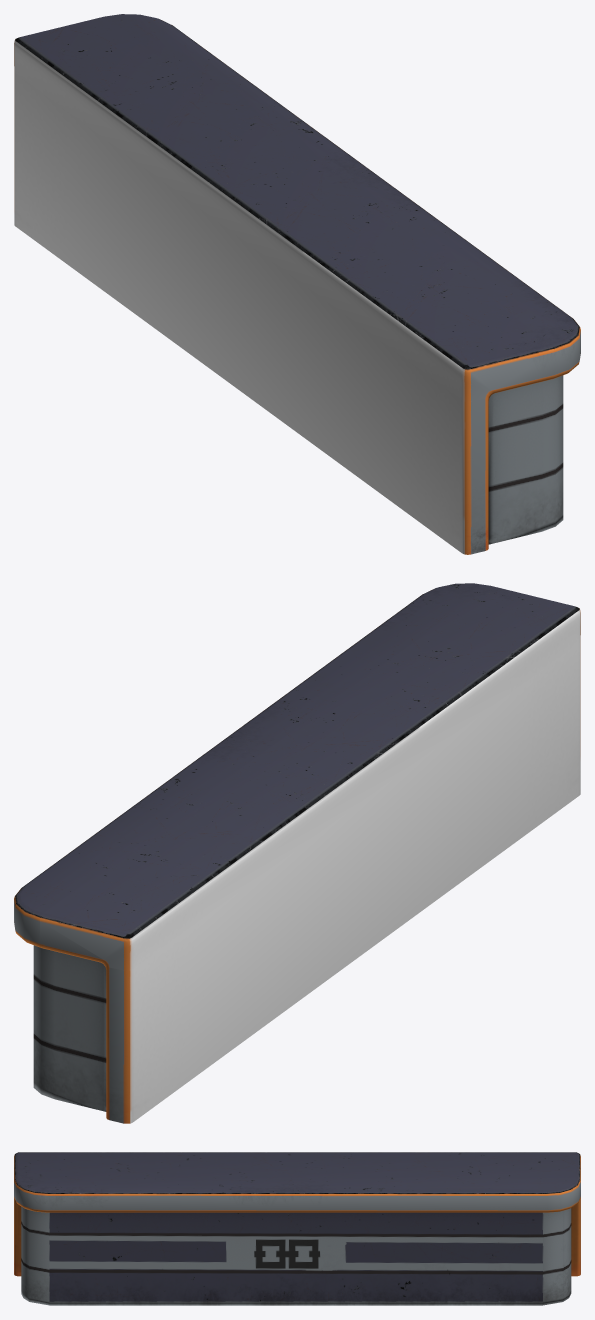
File: SideTable.fbx
3 views of the same model, one above another, from view 1: azimuth 30°, elevation 25°; view 2: azimuth 150°, elevation 25°; view 3: azimuth 270°, elevation 25° (orthographic). The views are drawn at different scales.
Parts seen in each view (by area): view 1: SideTable; view 2: SideTable; view 3: SideTable.
Part boxes in pixels (box(x1,y1,x2,y2)): SideTable: box(14, 14, 580, 554); SideTable: box(14, 583, 580, 1123); SideTable: box(14, 1152, 580, 1305).
Size of the model in its own units: 65.35 by 86.62 by 379.
